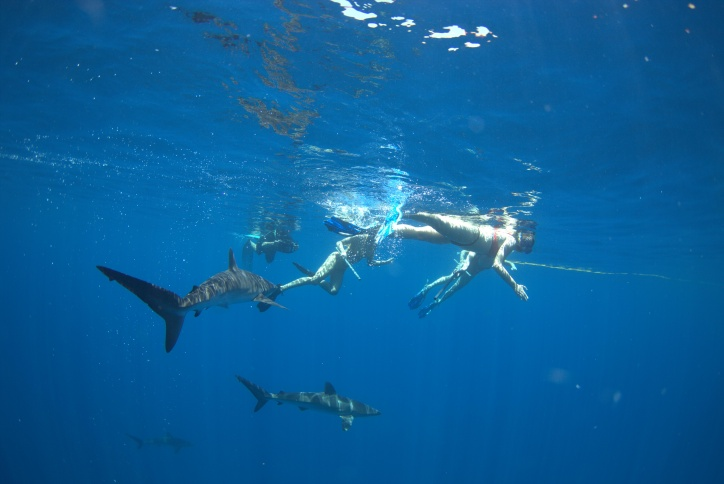Sedoso: (227, 361, 391, 443)
